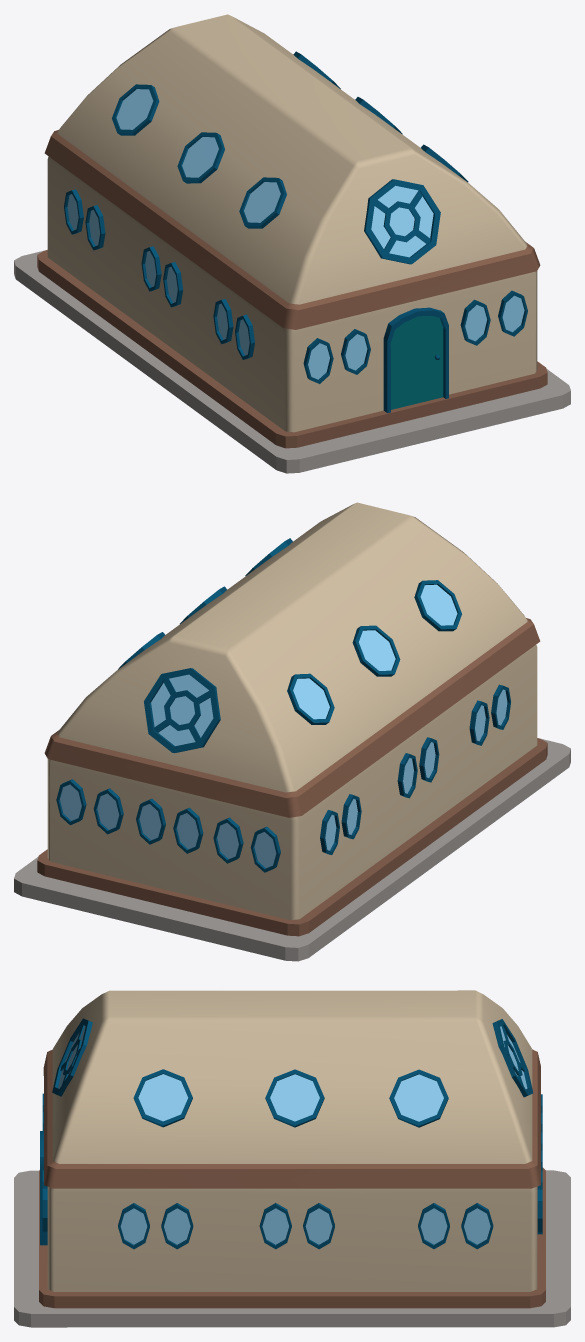
Rendered from House_2.fbx.
3 renders of one model, top to bottom at view 1: azimuth 30°, elevation 25°; view 2: azimuth 150°, elevation 25°; view 3: azimuth 270°, elevation 25°, orthographic.
Parts seen in each view (by area): view 1: House_2; view 2: House_2; view 3: House_2.
Boxes of the visible parts, x1,y1,x2,y2 form: House_2: (14, 14, 570, 473); House_2: (14, 502, 570, 961); House_2: (14, 990, 570, 1327).
Bounding box in the file's own units: 224 × 367 × 183.
